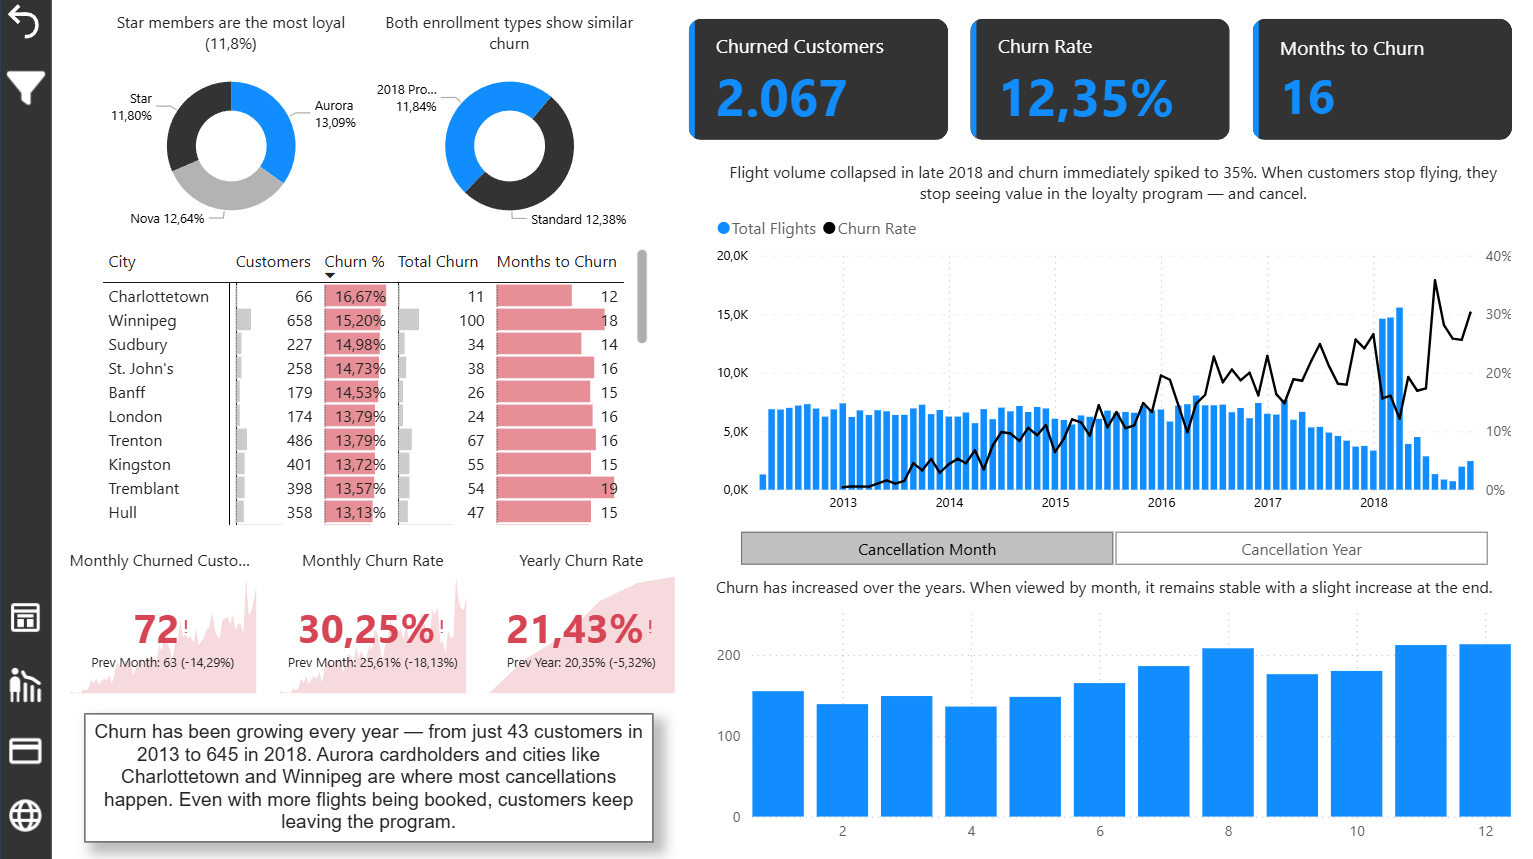

Layout of this report page (visuals, bound fields, positions):
{"tool":"powerbi","page":{"name":"Churn Analysis","canvas":[1280,720],"ordinal":1},"visuals":[{"type":"kpi","title":"Monthly Churn Rate","fields":{"TrendLine":["Calendar.StartOfMonth"],"Indicator":["Measures DAX.Churn Rate (Time)"],"Goal":["Measures DAX.Previous Month Churn Rate"]},"box":[228.6,458.1,165.6,125.6],"z":1000},{"type":"pivotTable","fields":{"Rows":["Customer_Loyalty_History.Province","Customer_Loyalty_History.City"],"Values":["Measures DAX.Total Customers (Time)","Measures DAX.Churn Rate (Time)","Measures DAX.Churned Customers (Time)","Measures DAX.Avg Tenure Before Churn"]},"box":[53.8,200,508.8,237.5],"z":2000},{"type":"shape","box":[0,0,44.3,720],"z":3000},{"type":"cardVisual","fields":{"Data":["Measures DAX.Churned Customers (Time)","Measures DAX.Churn Rate (Time)","Measures DAX.Avg Tenure Before Churn"]},"box":[557.8,0,722.2,135],"z":4000},{"type":"actionButton","box":[1.4,0,44.3,38.6],"z":5000},{"type":"actionButton","box":[2,55,44.3,40],"z":6000},{"type":"donutChart","title":"Star members are the most loyal (11,8%)","fields":{"Category":["Customer_Loyalty_History.LoyaltyCard"],"Y":["Measures DAX.Churn Rate (Time)"]},"box":[77.1,10,231.4,190],"z":7000},{"type":"lineStackedColumnComboChart","title":"Flight volume collapsed in late 2018 and churn immediately spiked to 35%. When customers stop flying, they stop seeing value in the loyalty program — and cancel.","fields":{"Category":["Calendar.StartOfMonth"],"Y2":["Measures DAX.Churn Rate (Time)"],"Y":["Measures DAX.Total Flights (Time)"]},"box":[592.1,135.6,672.1,302.4],"z":8000},{"type":"clusteredColumnChart","title":"Churn has increased over the years. When viewed by month, it remains stable with a slight increase at the end.","fields":{"Category":["Customer_Loyalty_History.CancellationMonth"],"Y":["Measures DAX.Churned Customers (Time)"]},"box":[592.1,480.9,672.1,230.6],"z":9000},{"type":"kpi","title":"\tMonthly Churned Customers","fields":{"TrendLine":["Calendar.StartOfMonth"],"Indicator":["Measures DAX.Churned Customers (Time)"],"Goal":["Measures DAX.Previous Month Churned Customers"]},"box":[54.1,458.1,165.6,125.6],"z":10000},{"type":"slicer","fields":{"Values":["Parameter 2.Parameter"]},"box":[592.1,438,672.1,41.7],"z":11000},{"type":"donutChart","title":"Both enrollment types show similar churn","fields":{"Y":["Measures DAX.Churn Rate (Time)"],"Category":["Customer_Loyalty_History.EnrollmentType"]},"box":[308.6,10,232.9,190],"z":12000},{"type":"kpi","title":"Yearly Churn Rate","fields":{"Indicator":["Measures DAX.Churn Rate (Time)"],"Goal":["Measures DAX.Previous Year Churn Rate"],"TrendLine":["Calendar.StartOfYear"]},"box":[403,458.1,165.6,125.6],"z":13000},{"type":"textbox","box":[71.4,595.7,474.3,107.1],"z":14000},{"type":"actionButton","box":[0,496.7,44.2,40],"z":15000},{"type":"actionButton","box":[0,551.9,44.4,40],"z":16000},{"type":"actionButton","box":[0,607.3,44.4,40],"z":17000},{"type":"actionButton","box":[0,661.4,44.3,40],"z":18000}]}

Visuals, with their boxes on the page's 1280x720 design canvas (x1, y1, x2, y2). These are canvas units, not pixel positions in the 1533x859 screenshot, which may show the page scaled, cropped or inside an application window:
"Monthly Churn Rate" kpi: bbox(229, 458, 394, 584)
pivotTable - Customer_Loyalty_History.Province x Customer_Loyalty_History.City: bbox(54, 200, 563, 438)
shape: bbox(0, 0, 44, 720)
cardVisual - Measures DAX.Churned Customers (Time) x Measures DAX.Churn Rate (Time): bbox(558, 0, 1280, 135)
actionButton: bbox(1, 0, 46, 39)
actionButton: bbox(2, 55, 46, 95)
"Star members are the most loyal (11,8%)" donutChart: bbox(77, 10, 308, 200)
"Flight volume collapsed in late 2018 and churn immediately spiked to 35%. When customers stop flying, they stop seeing value in the loyalty program — and cancel." lineStackedColumnComboChart: bbox(592, 136, 1264, 438)
"Churn has increased over the years. When viewed by month, it remains stable with a slight increase at the end." clusteredColumnChart: bbox(592, 481, 1264, 712)
"	Monthly Churned Customers" kpi: bbox(54, 458, 220, 584)
slicer - Parameter 2.Parameter: bbox(592, 438, 1264, 480)
"Both enrollment types show similar churn" donutChart: bbox(309, 10, 542, 200)
"Yearly Churn Rate" kpi: bbox(403, 458, 569, 584)
textbox: bbox(71, 596, 546, 703)
actionButton: bbox(0, 497, 44, 537)
actionButton: bbox(0, 552, 44, 592)
actionButton: bbox(0, 607, 44, 647)
actionButton: bbox(0, 661, 44, 701)
